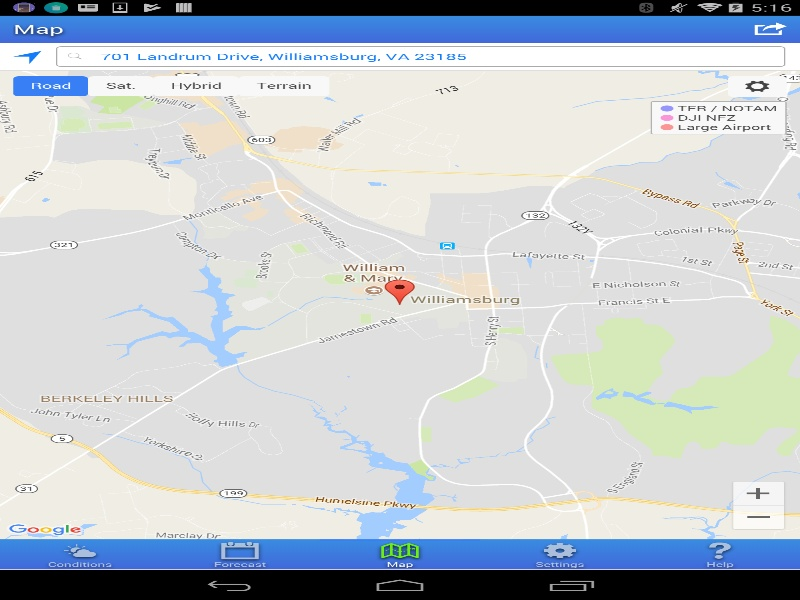Button: (231, 73, 336, 99), (146, 73, 246, 99), (6, 73, 96, 99), (81, 73, 161, 99), (721, 73, 793, 100), (0, 41, 62, 71)
Input: (89, 46, 766, 66)
